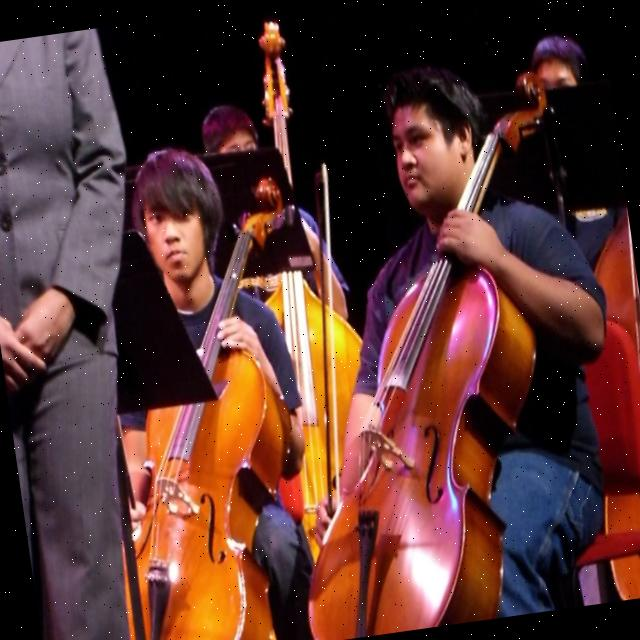cello: (232, 63, 626, 640), (66, 171, 363, 640)
